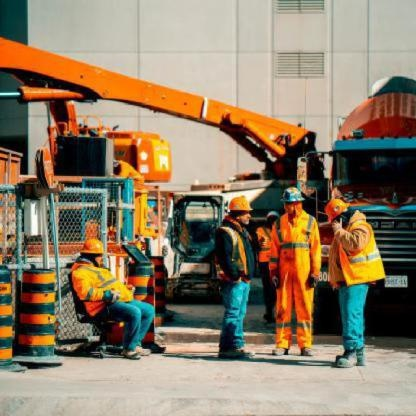vest: (327, 219, 390, 285), (270, 211, 321, 282), (72, 263, 136, 316), (211, 225, 255, 281)
yellow: (322, 195, 351, 220), (77, 235, 105, 256), (225, 195, 255, 214)
